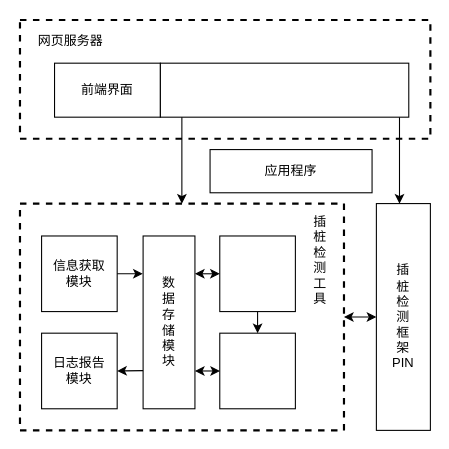
Some shapes in this 449 by 449 pixel diagram are drawn without their labels. The shapes that lost their labels are listed below. From the top down, each one's centre as x and y in pixels, then its label:
At point 284,89: "后端服务".
At point 257,273: "攻击检测 模块".
At point 257,370: "攻击类型 识别模块".
